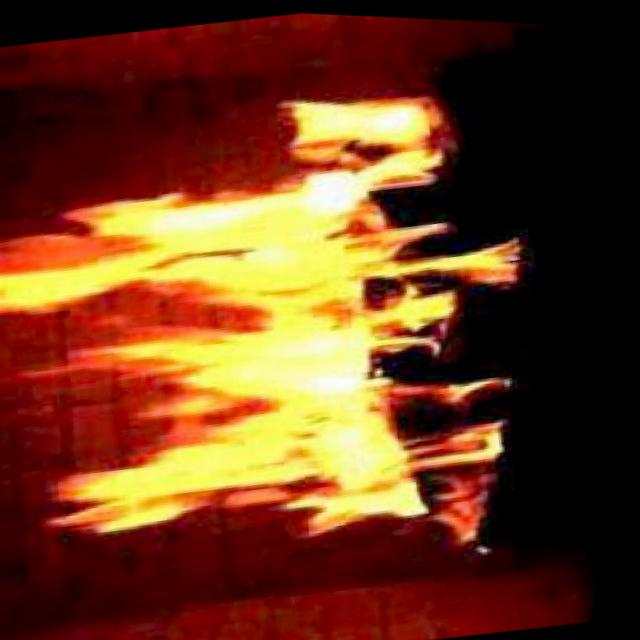Fire: (0, 46, 597, 628)
